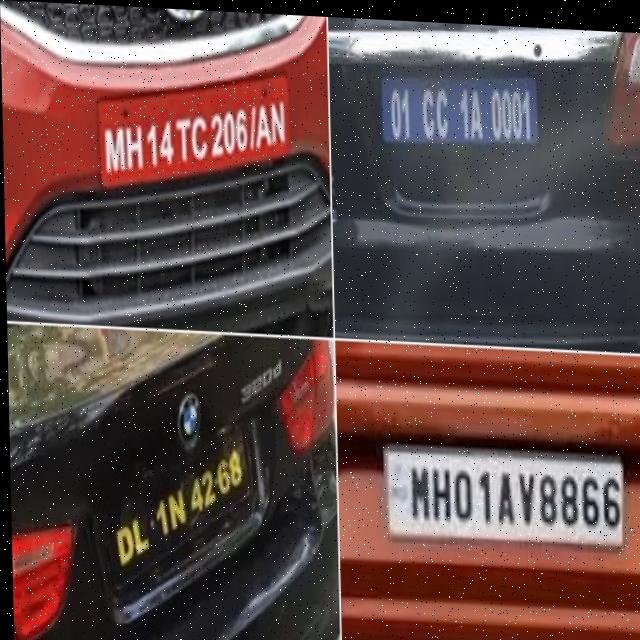plate: (95, 394, 261, 620), (89, 52, 296, 224), (380, 434, 624, 545), (378, 58, 541, 155)
